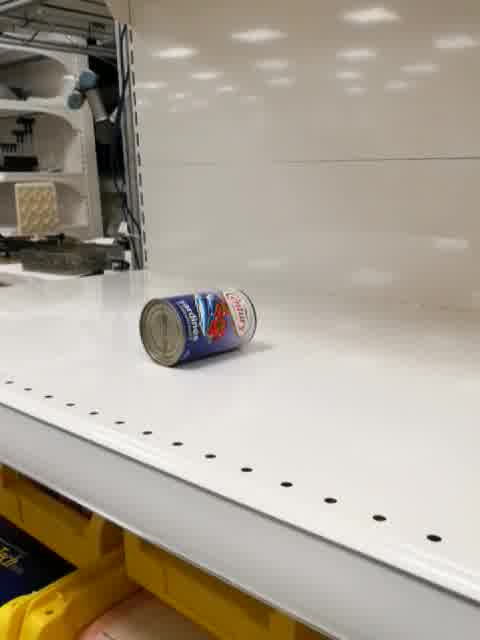sardine: (139, 287, 258, 369)
